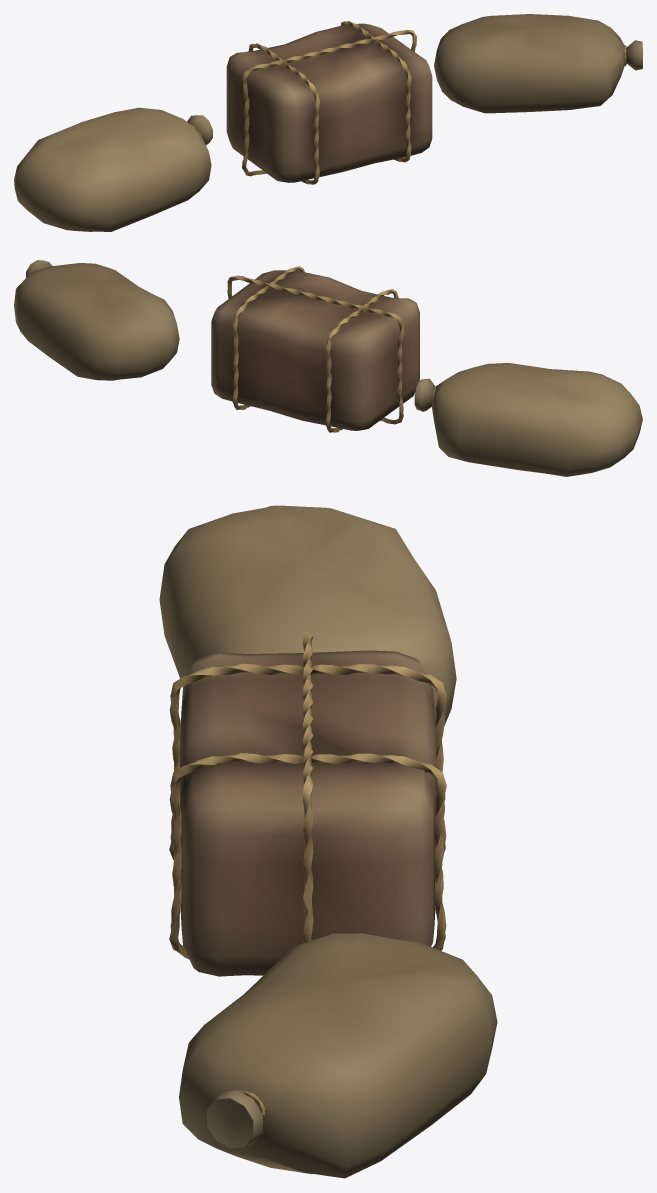
Rendered from cargo-bales.f6a20c58.glb.
3 views of the same model, one above another, from view 1: azimuth 30°, elevation 25°; view 2: azimuth 150°, elevation 25°; view 3: azimuth 270°, elevation 25° (orthographic). The views are drawn at different scales.
Visible parts, largest first — view 1: bale, sack_a, sack_b; view 2: bale, sack_a, sack_b; view 3: bale, sack_b, sack_a.
Part boxes in pixels (bbox=[...]): bale: bbox=[226, 21, 432, 184]; sack_a: bbox=[14, 107, 212, 231]; sack_b: bbox=[434, 14, 642, 113]; bale: bbox=[211, 266, 419, 432]; sack_a: bbox=[414, 363, 642, 476]; sack_b: bbox=[14, 260, 179, 380]; bale: bbox=[169, 631, 446, 976]; sack_b: bbox=[179, 933, 497, 1178]; sack_a: bbox=[159, 505, 456, 727].
Size of the model in its own units: 2.38 by 0.4133 by 0.5749.
